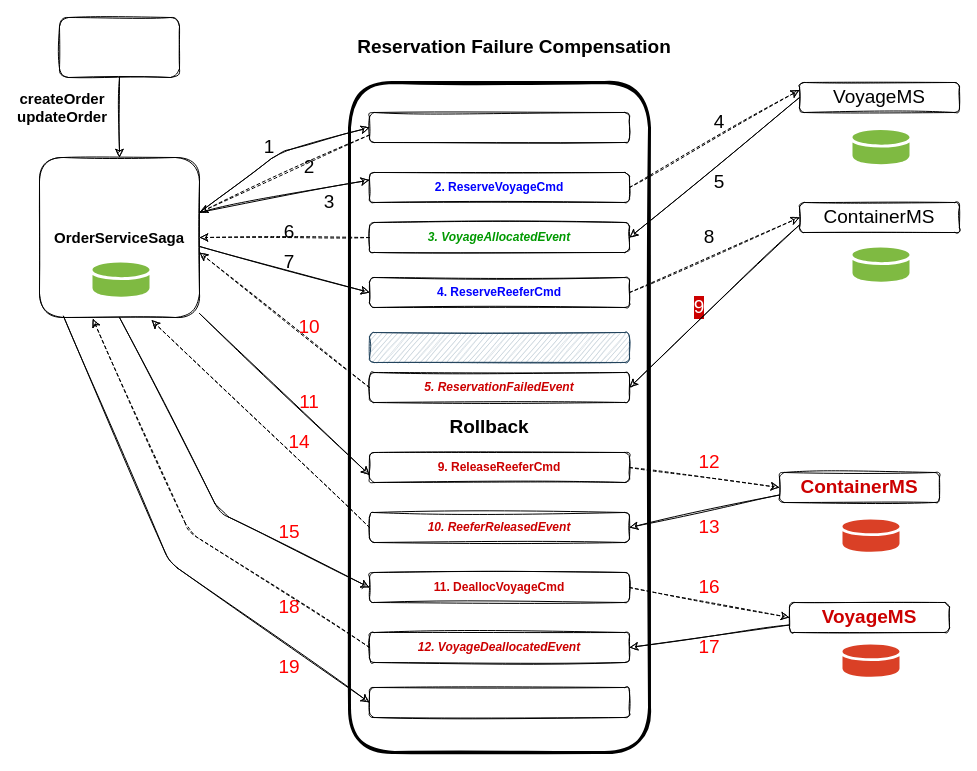
The diagram is 977 pixels wide and 771 high, and some of its shapes have lost their labels. Each missing label, with the centre of its shape:
1. OrderCreatedEvent: the point at 499,127
13. OrderCancelledEvent: the point at 499,702
5. ReeferReservedEvent: the point at 499,347
User Interface: the point at 119,47
